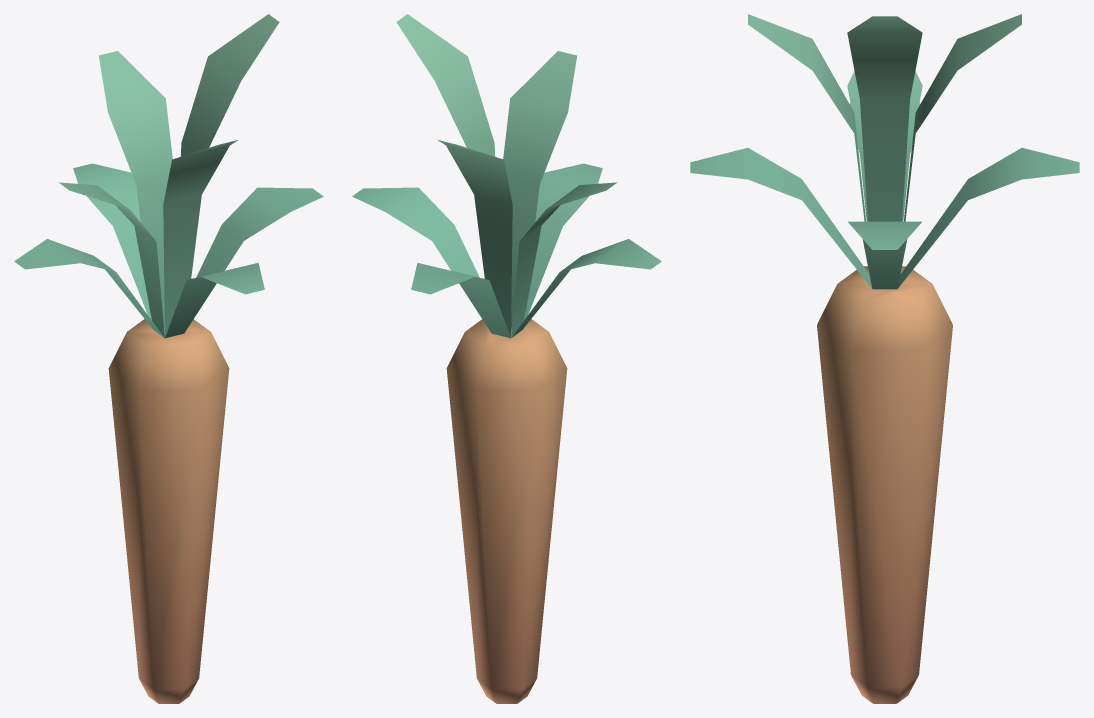
Rendered from carrot.glb.
3 renders of one model, left to right at view 1: azimuth 30°, elevation 25°; view 2: azimuth 150°, elevation 25°; view 3: azimuth 270°, elevation 25°, orthographic. The views are drawn at different scales.
Parts seen in each view (by area): view 1: carrot; view 2: carrot; view 3: carrot.
Boxes of the visible parts, <box> form: carrot: <box>14,14,323,703</box>; carrot: <box>352,14,661,703</box>; carrot: <box>690,14,1079,703</box>.
Bounding box in the file's own units: 0.3431 × 0.7163 × 0.3431.
